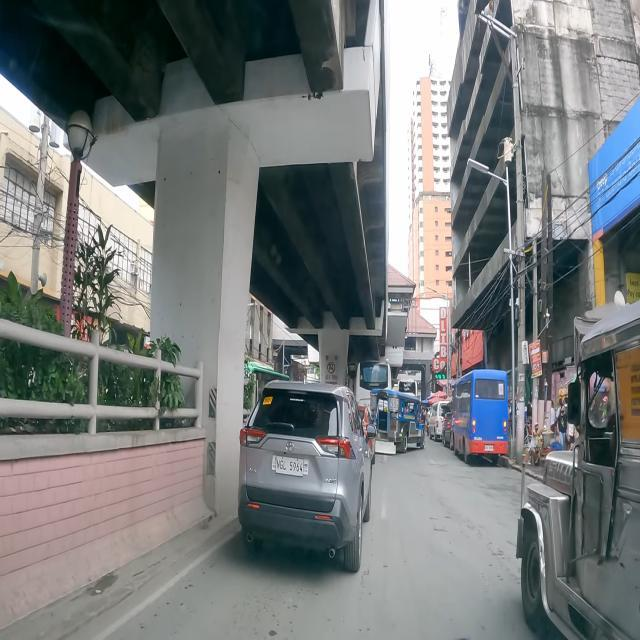bus: (451, 369, 508, 464), (355, 361, 392, 420), (244, 359, 290, 401), (398, 380, 418, 396)
car: (238, 380, 376, 572), (429, 401, 451, 442)
jeepney: (516, 300, 640, 640), (370, 389, 424, 454)
